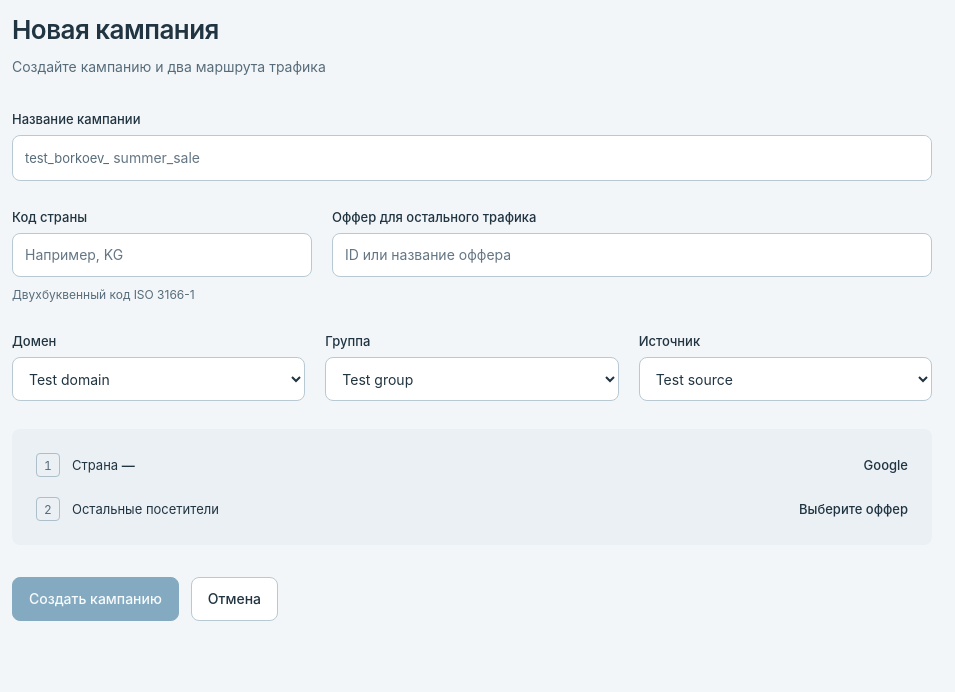
creation recovery › does not send a creation if its recovery key cannot be persisted
The image size is (955, 692).
Type "demo" into the field labelled "Название кампании".
click(520, 158); type("demo")  # box [109,136,931,180]
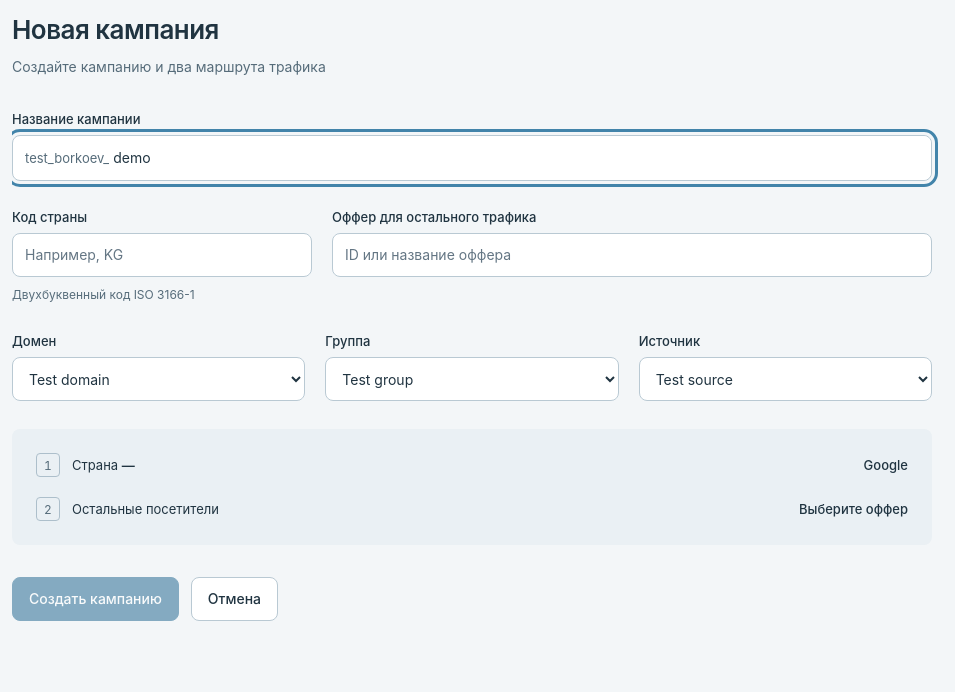
Type "KG" into the field labelled "Код страны".
click(162, 255); type("KG")  # box [12,233,312,277]
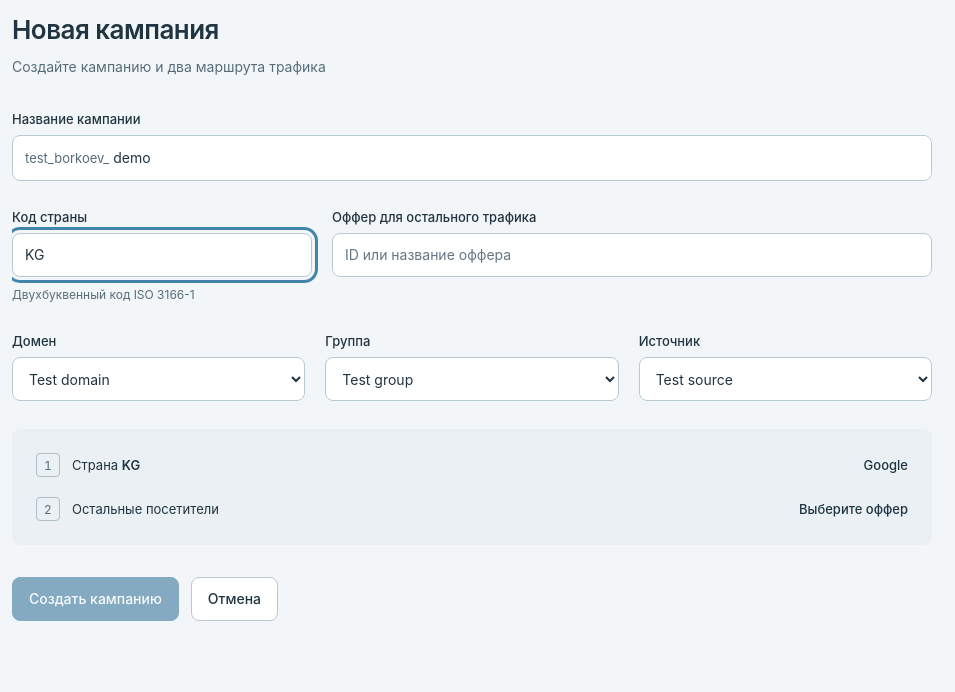
Type "11" into the dropdown labelled "Оффер для остального трафика".
click(632, 255); type("11")  # box [332,233,932,277]
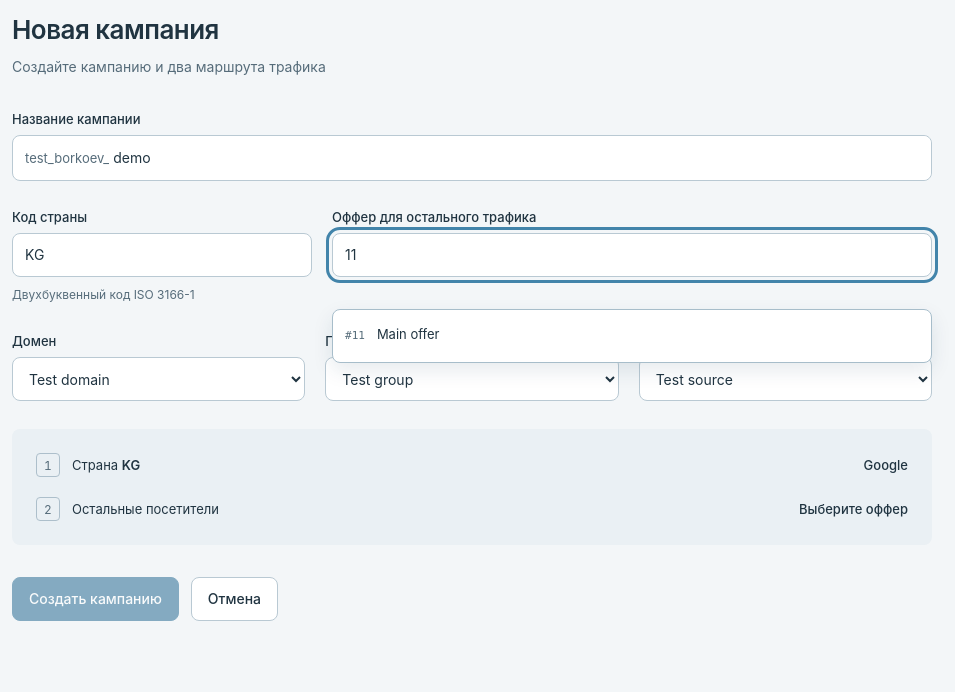
Click the option "#11 Main offer".
click(392, 334)  # box [345,326,439,342]
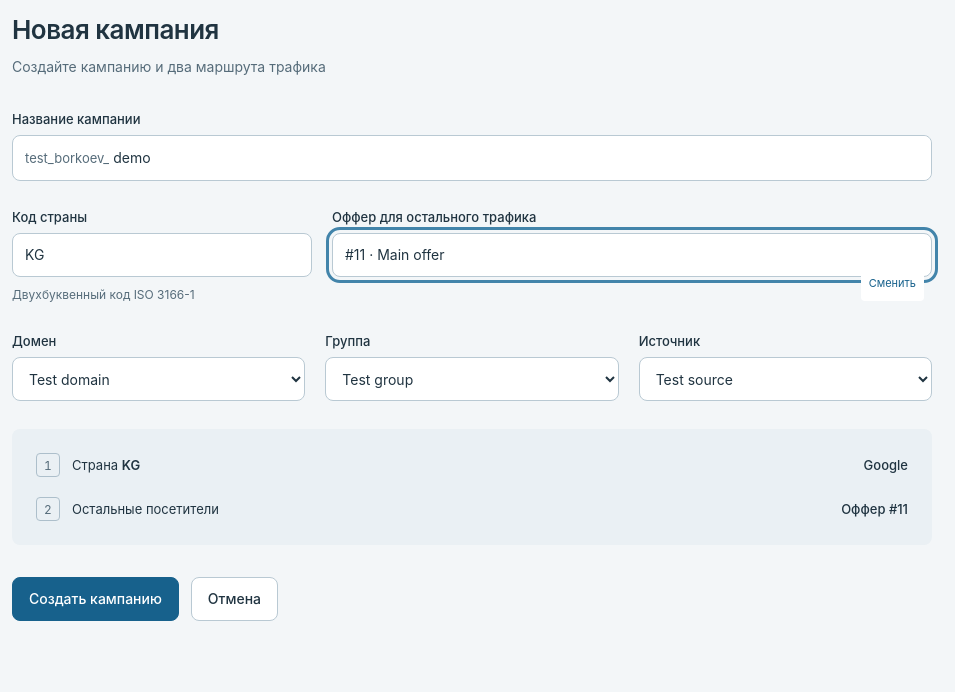
Click the button "Создать кампанию".
click(95, 599)  # box [12,577,179,621]
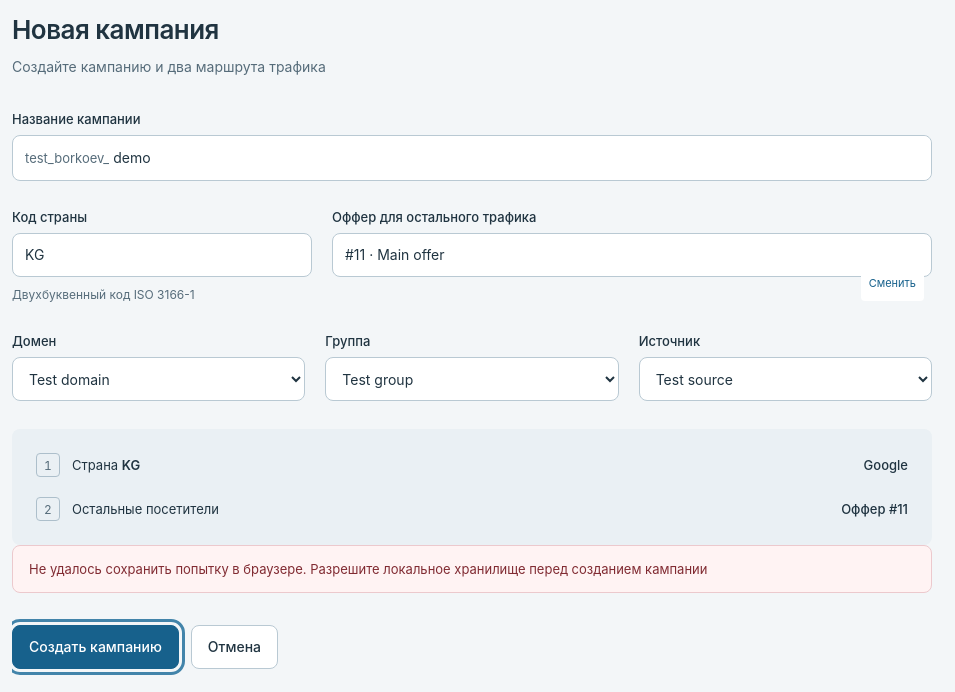
Check: the message is shown, box [12,545,932,593]
